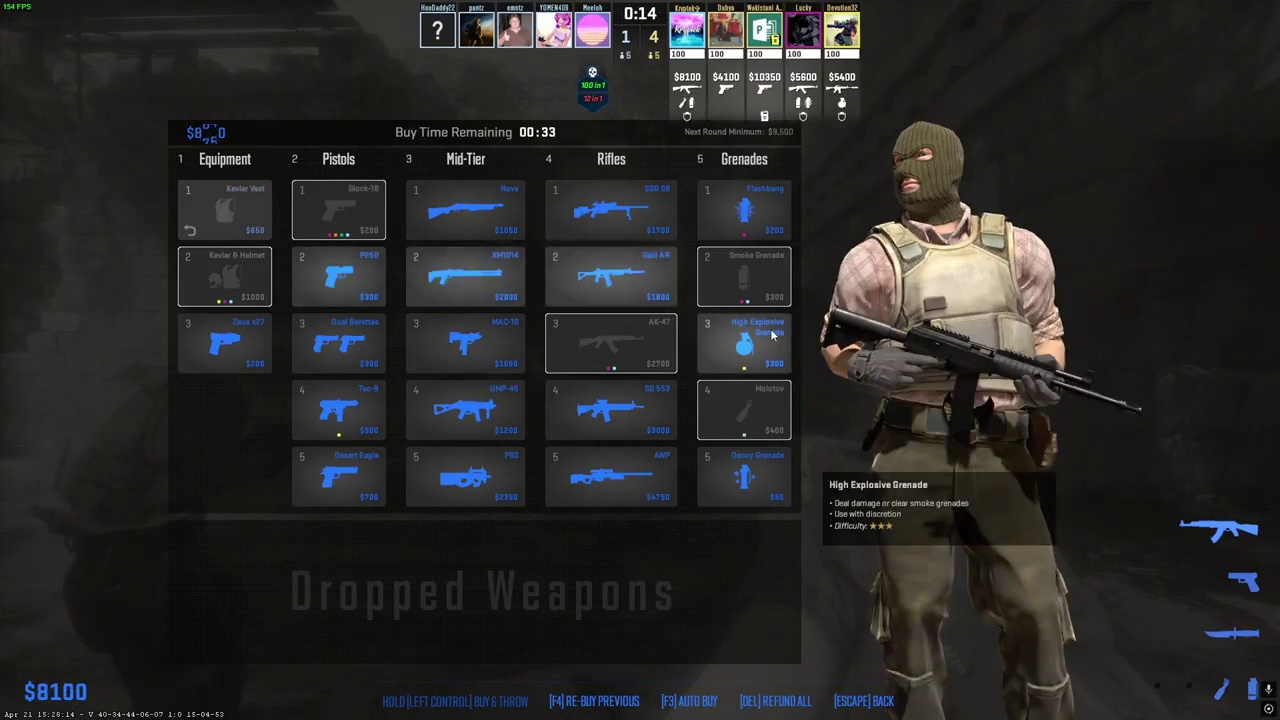Terrorist: (850, 121, 1076, 720)
